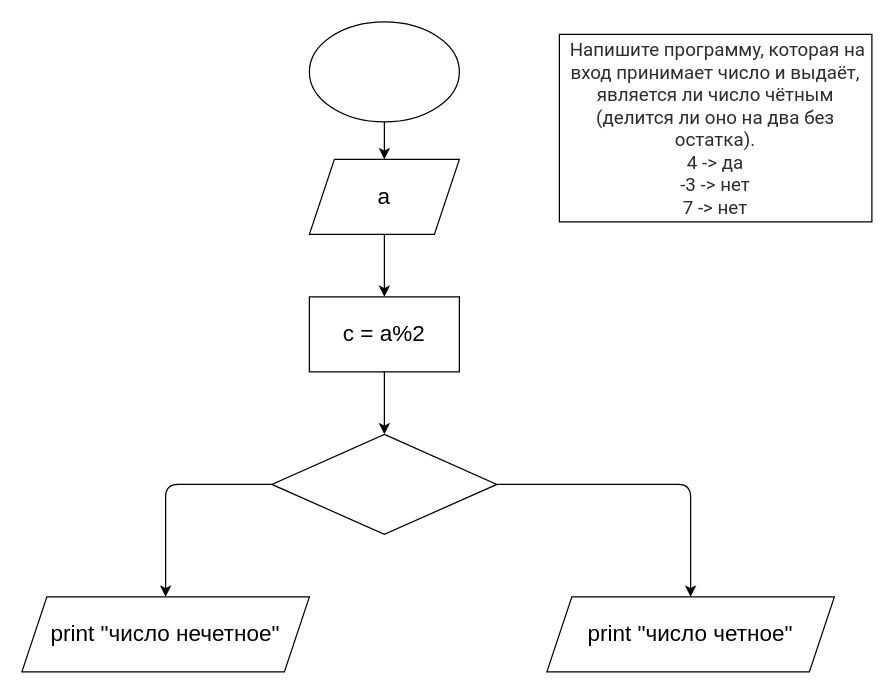
Image size: 894x694. Some labels were removed from this diagram. The shapes that lost their labels are listed below. From the top down, each one's box as (x1, y1, x2, y2) in pixels, then its label:
(308, 21, 459, 122): start
(271, 433, 497, 534): c == 0
